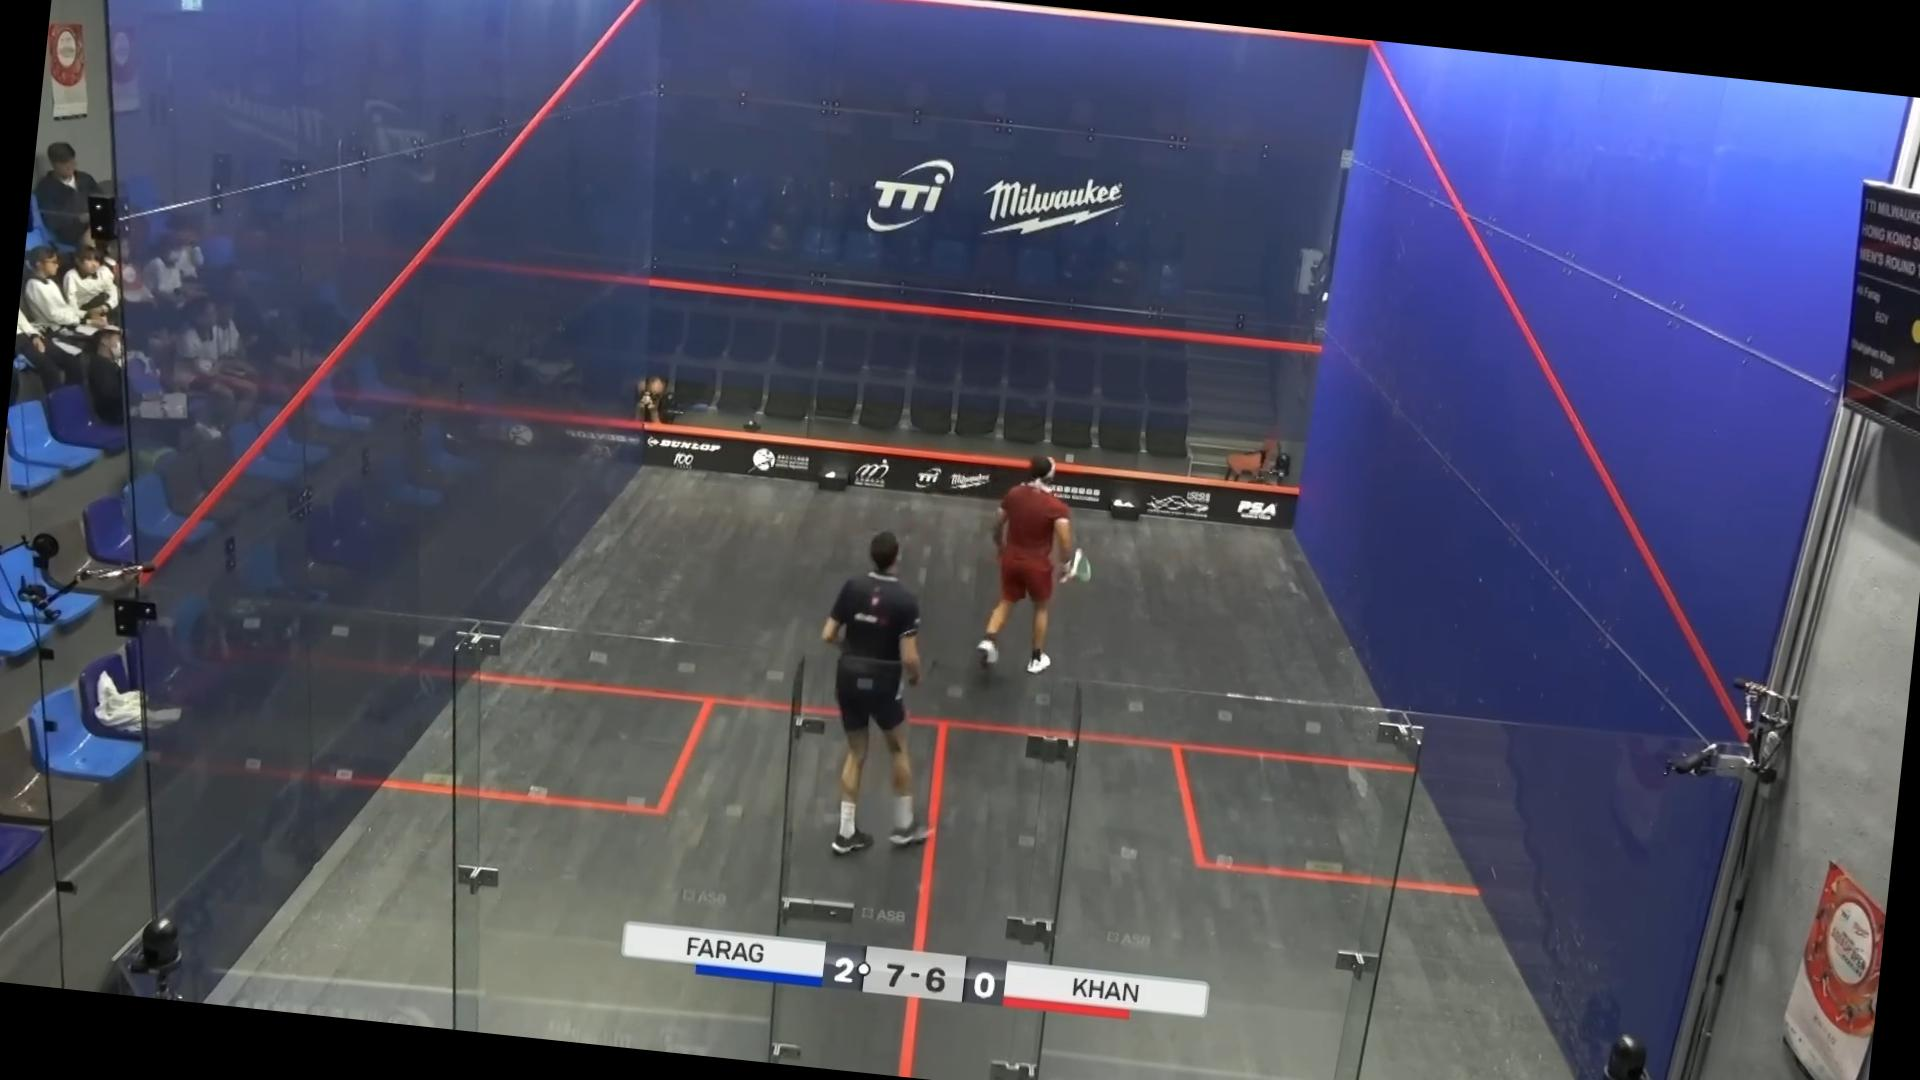Racket: (1063, 538, 1101, 605)
